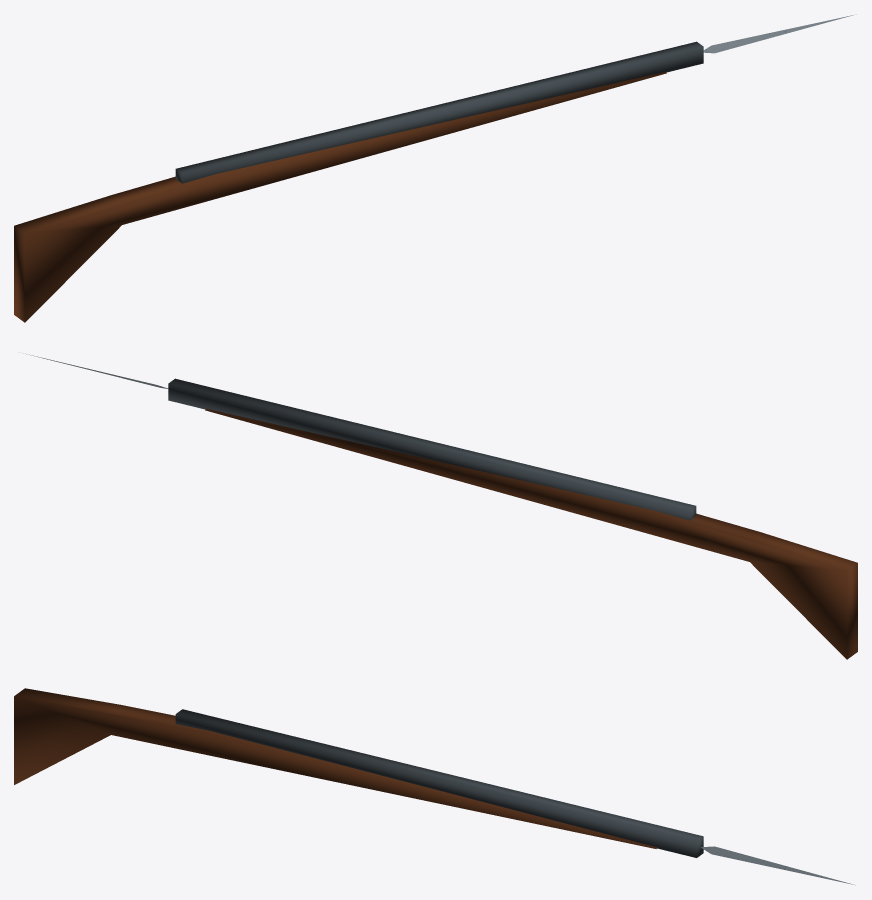
Rendered from matchlock_arquebus_bayonet_lod2.glb.
The picture shows the model from 3 angles, top to bottom: view 1: azimuth 30°, elevation 25°; view 2: azimuth 150°, elevation 25°; view 3: azimuth 330°, elevation 25°; orthographic projection.
Parts seen in each view (by area): view 1: WeaponMesh.008; view 2: WeaponMesh.008; view 3: WeaponMesh.008.
Part boxes in pixels (<box>): WeaponMesh.008: <box>14,14,856,322</box>; WeaponMesh.008: <box>25,353,857,659</box>; WeaponMesh.008: <box>14,688,855,885</box>.
Size of the model in its own units: 2.29 by 0.283 by 0.052.
